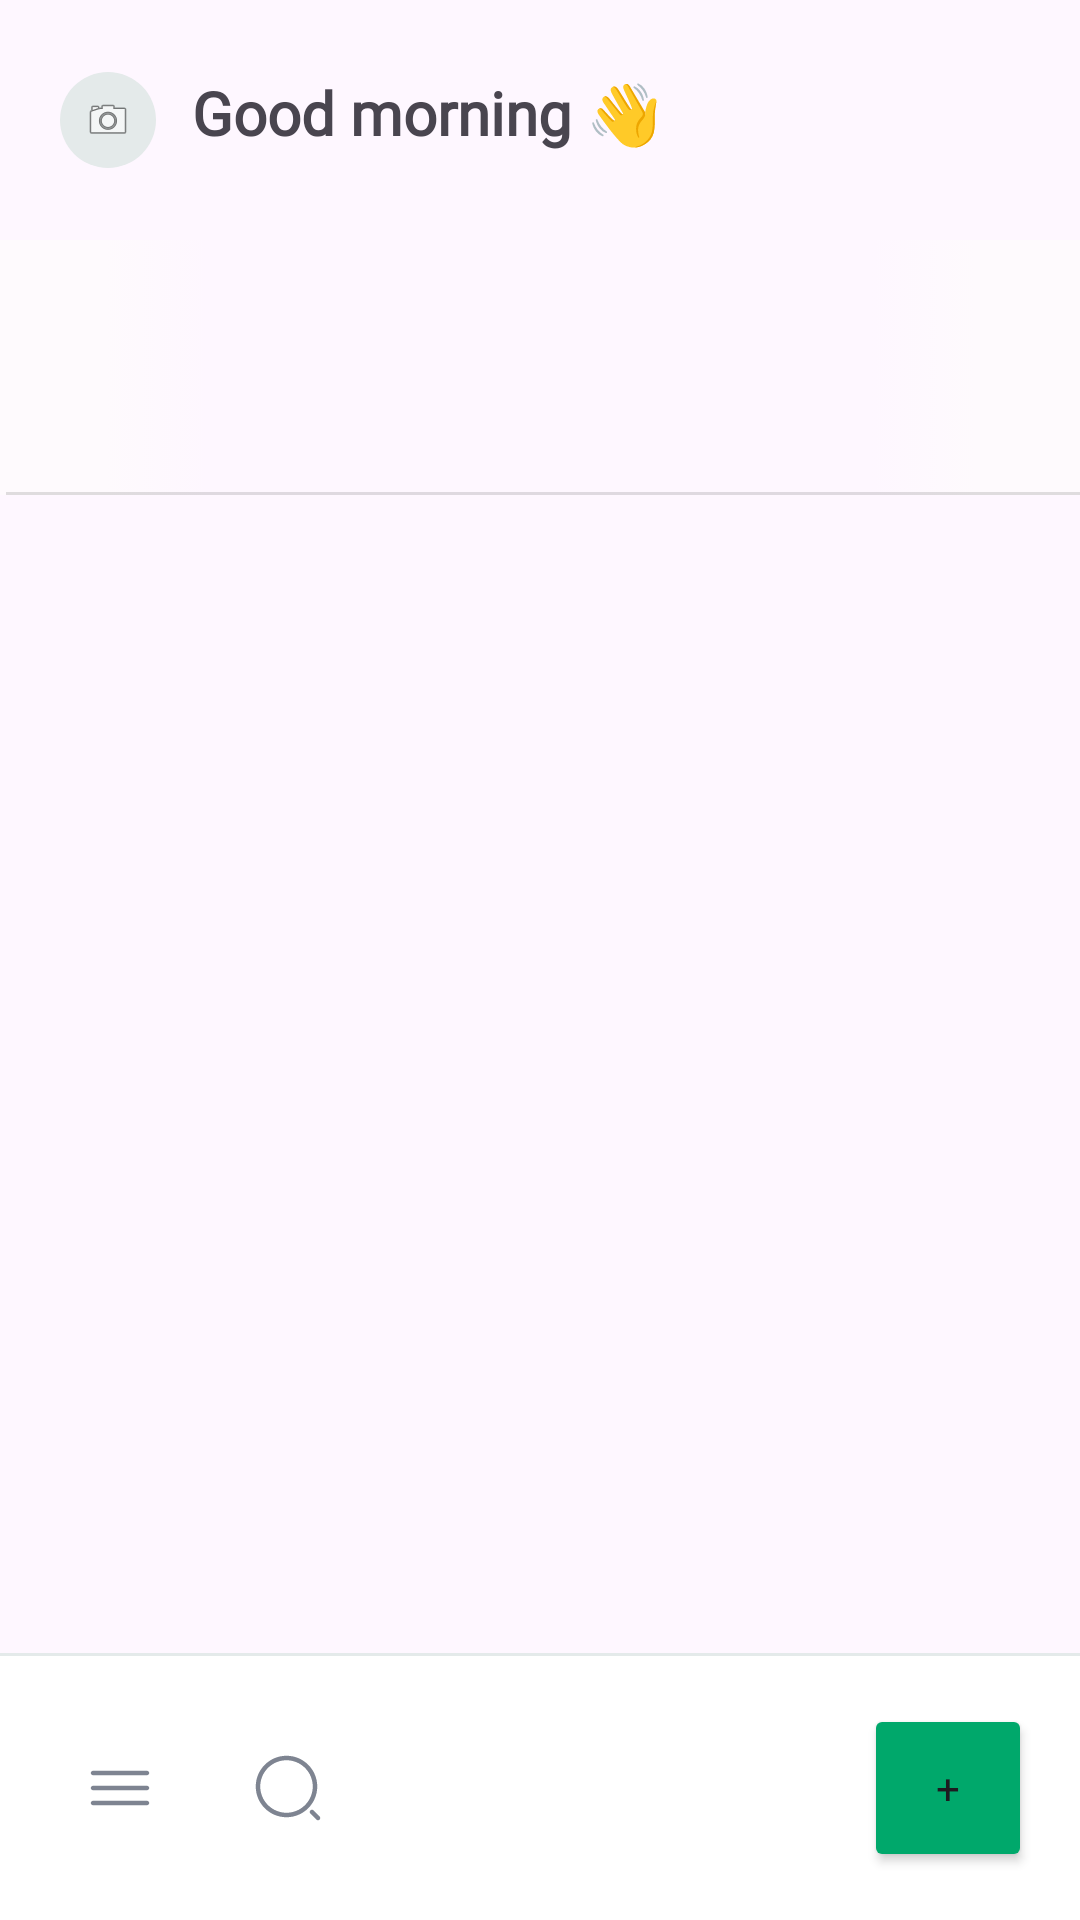

Where icons sit on this 1080 × 1920 app screen, as (x1, y1, x2, y2):
camera: (60, 72, 156, 168)
menu: (91, 1770, 149, 1806)
search: (255, 1755, 320, 1820)
